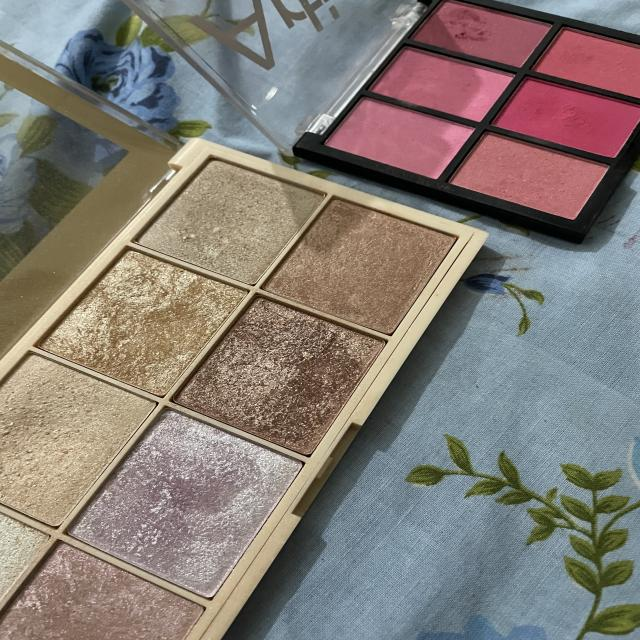blush: (449, 124, 624, 227), (487, 67, 640, 174), (312, 85, 476, 184), (362, 40, 520, 127), (403, 0, 557, 71), (523, 15, 640, 107)
highlighter: (60, 400, 321, 605), (162, 275, 405, 461), (18, 241, 257, 407), (255, 170, 466, 342), (0, 337, 170, 542), (115, 147, 335, 288), (0, 527, 219, 640), (0, 496, 60, 626)
